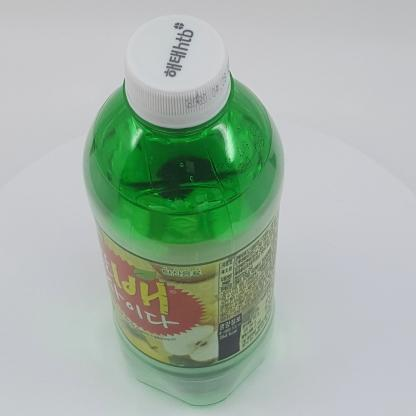-------500ML: (82, 15, 284, 405)
